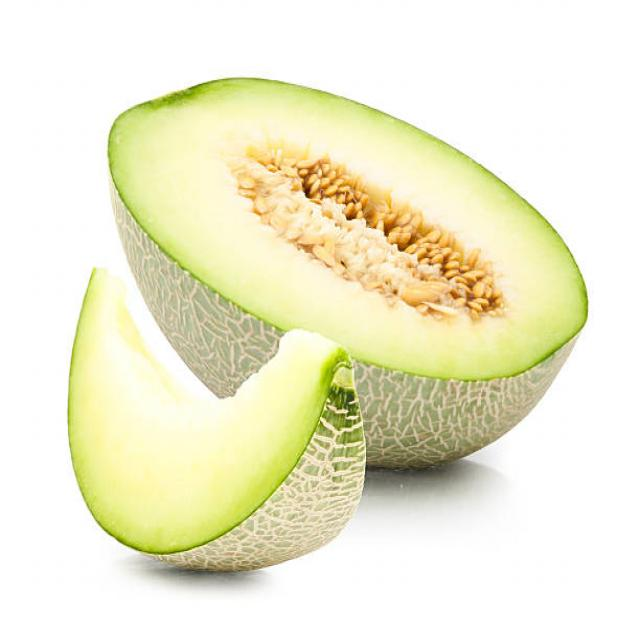melon: (106, 69, 604, 364), (60, 342, 361, 580)
